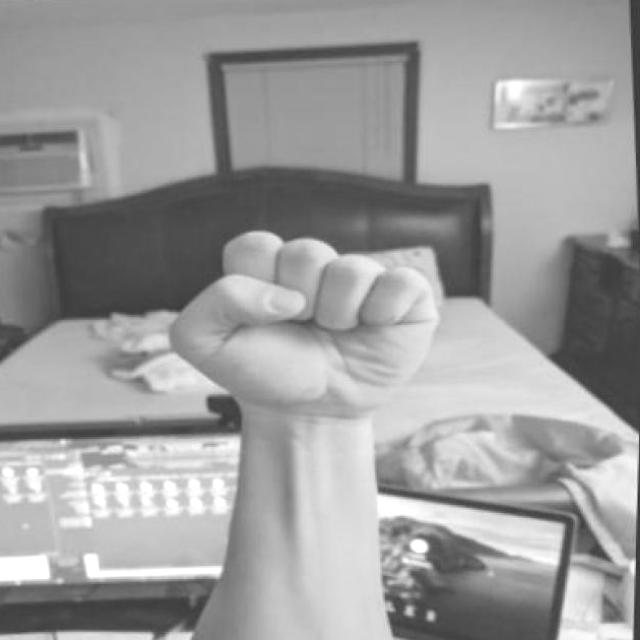S: (157, 213, 454, 484)
